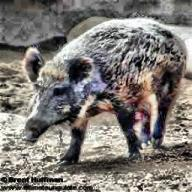boar: (21, 16, 188, 166)
